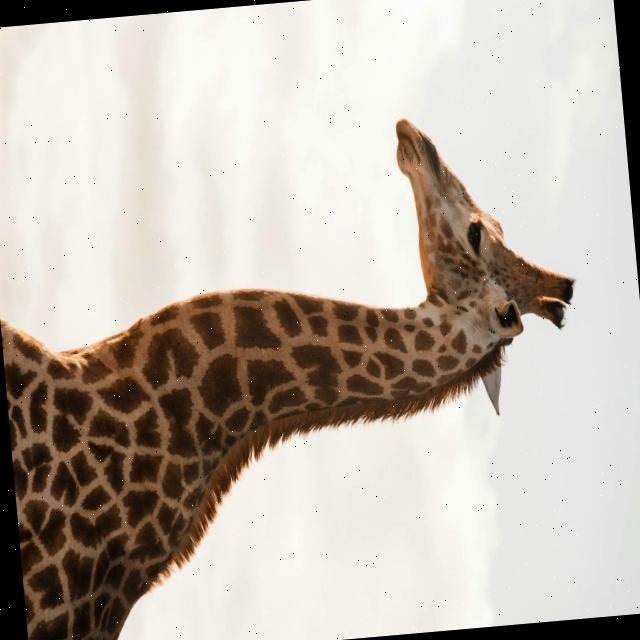Giraffe: (0, 101, 607, 640)
